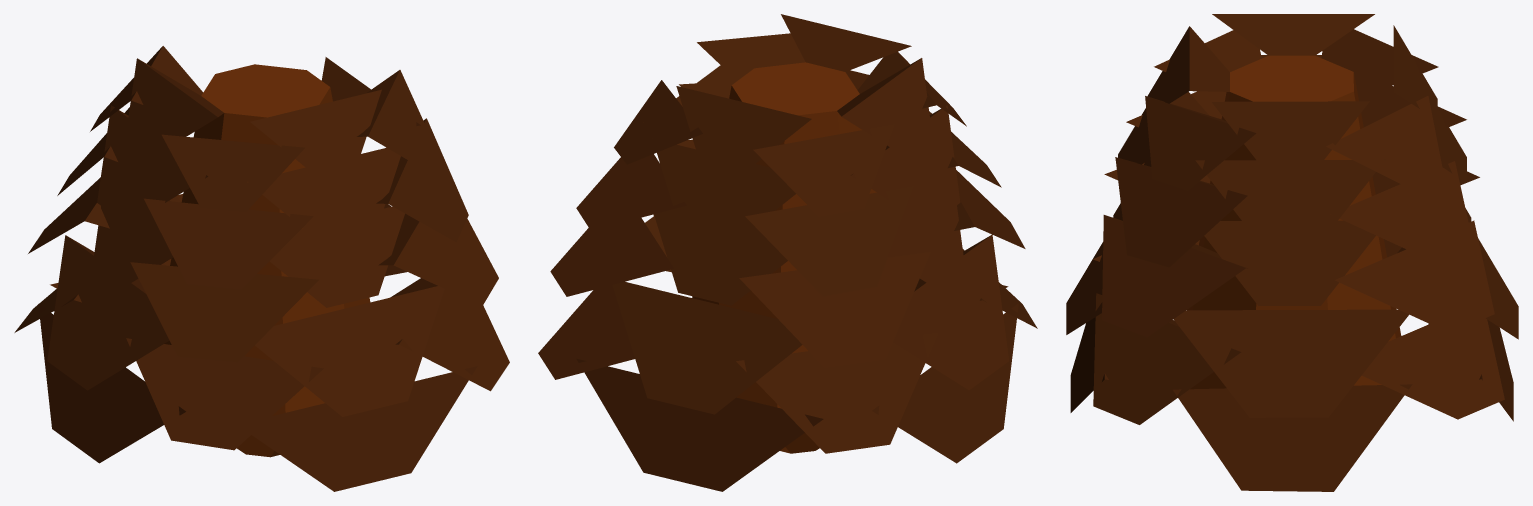
File: pinecone01.gltf
3 views of the same model, side by side, from view 1: azimuth 30°, elevation 25°; view 2: azimuth 150°, elevation 25°; view 3: azimuth 270°, elevation 25° (orthographic).
Parts seen in each view (by area): view 1: Plane.001; view 2: Plane.001; view 3: Plane.001.
Part boxes in pixels (x1,y1,x2,y2): Plane.001: (14, 46, 509, 491); Plane.001: (538, 14, 1037, 491); Plane.001: (1066, 14, 1518, 491).
Bounding box in the file's own units: 0.0875 × 0.0784 × 0.0842.
1 material, 1 textured.
